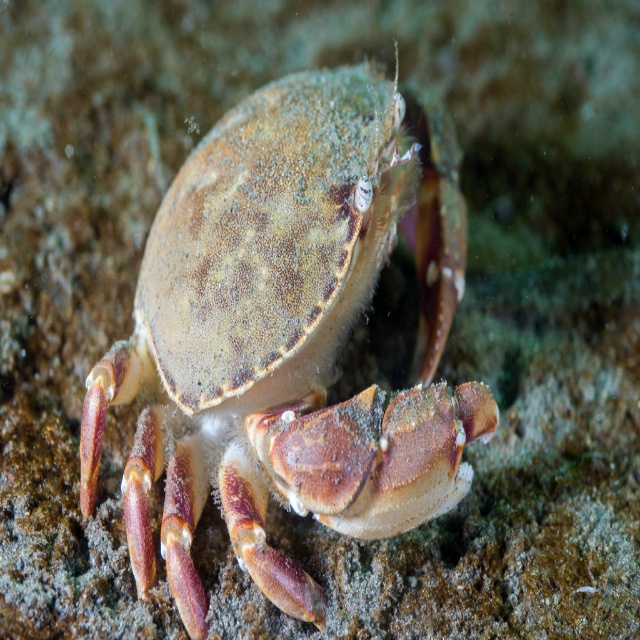Crab: (80, 37, 500, 640)
